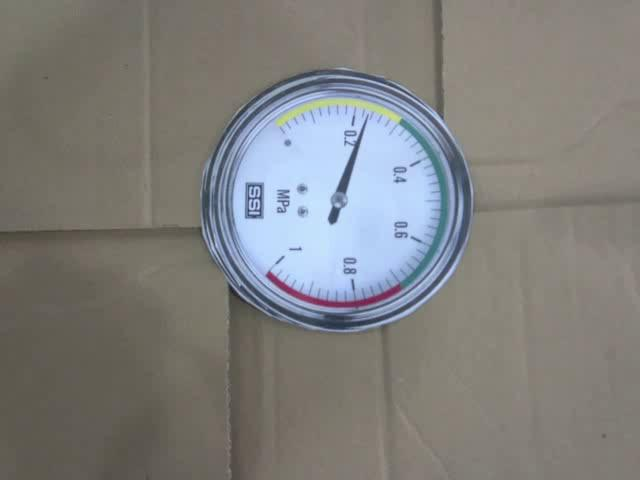Dashboard: (199, 66, 476, 334)
ssi: (243, 180, 266, 220)
